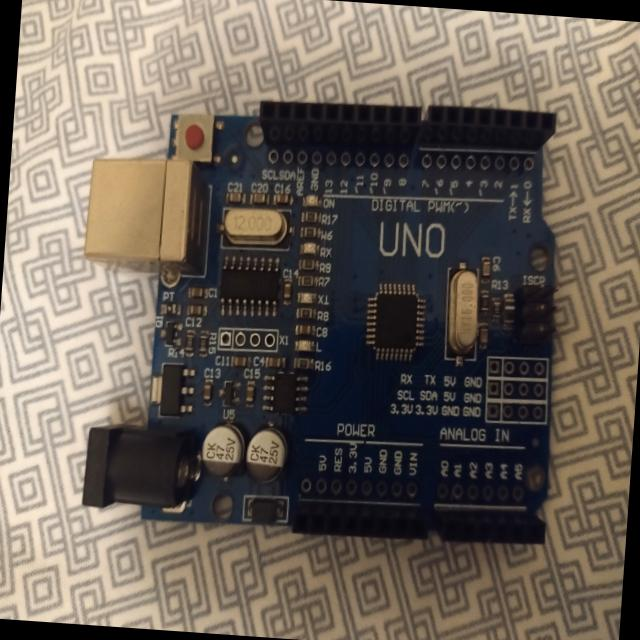arduino: (55, 61, 588, 584)
